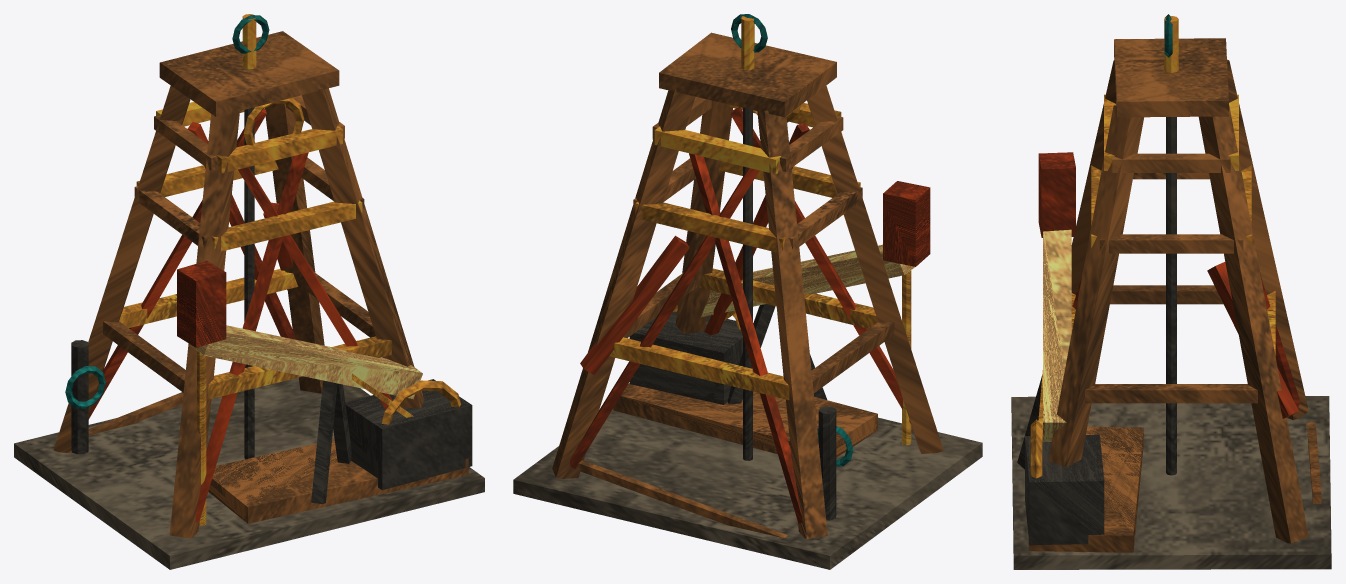
File: derrick-05.glb
3 views of the same model, side by side, from view 1: azimuth 30°, elevation 25°; view 2: azimuth 150°, elevation 25°; view 3: azimuth 270°, elevation 25° (orthographic). The views are drawn at different scales.
Visible parts, largest first — view 1: derrick-05; view 2: derrick-05; view 3: derrick-05.
Boxes of the visible parts, x1,y1,x2,y2 form: derrick-05: (14,14,484,569); derrick-05: (513,14,982,569); derrick-05: (1011,14,1331,569).
Bounding box in the file's own units: 5.23 × 7.24 × 4.43.
1 material, 1 textured.
